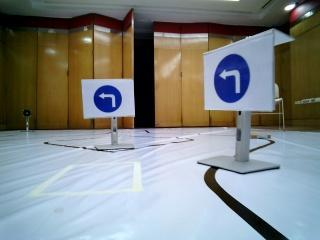left: (199, 50, 268, 106), (84, 81, 133, 113)
